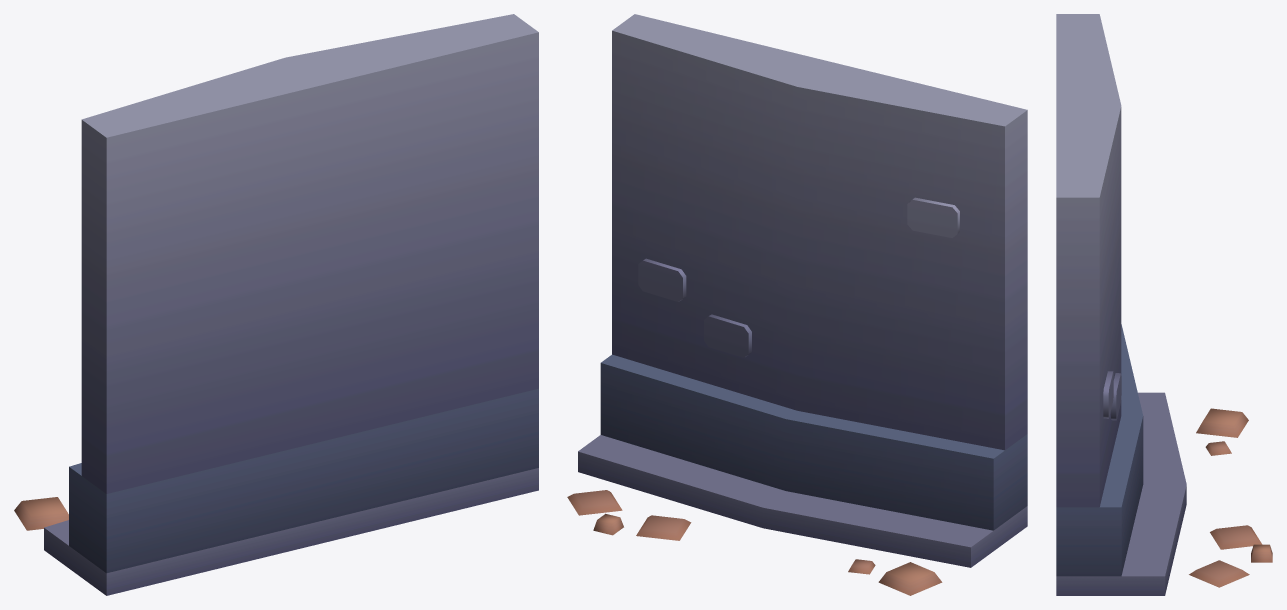
The model's file is template-wall.glb.
The picture shows the model from 3 angles, left to right: view 1: azimuth 30°, elevation 25°; view 2: azimuth 150°, elevation 25°; view 3: azimuth 270°, elevation 25°; orthographic projection. The views are drawn at different scales.
Parts seen in each view (by area): view 1: template-wall4; view 2: template-wall4; view 3: template-wall4.
Part boxes in pixels (<box>): template-wall4: <box>14,14,538,595</box>; template-wall4: <box>567,14,1027,595</box>; template-wall4: <box>1056,14,1272,595</box>.
Size of the model in its own units: 4 by 4.05 by 1.99.
1 material, 1 textured.
